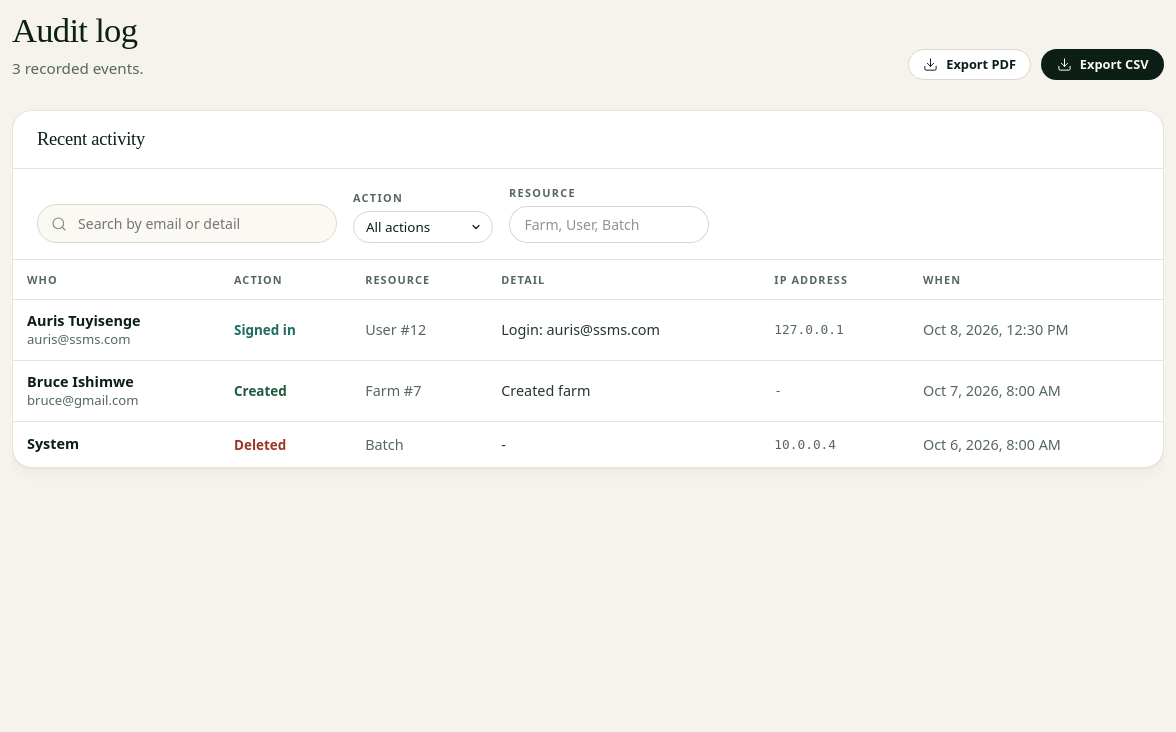
Audit log page › downloads the PDF with the current filters and says so
Check: the text "Bruce Ishimwe" is shown, box 27,372 -> 134,391
Click the button "Export PDF" at (970, 65), box 908,49 -> 1031,80
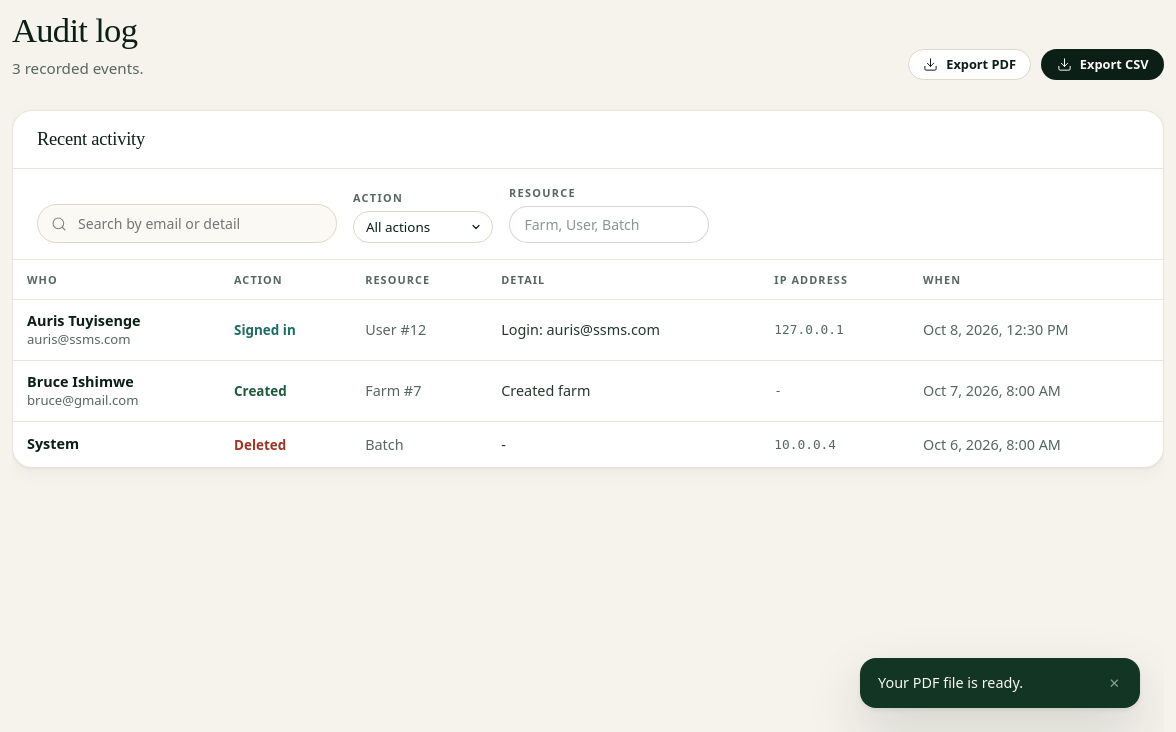
Check: the text "Your PDF file is ready." is shown, box 878,673 -> 1023,692
